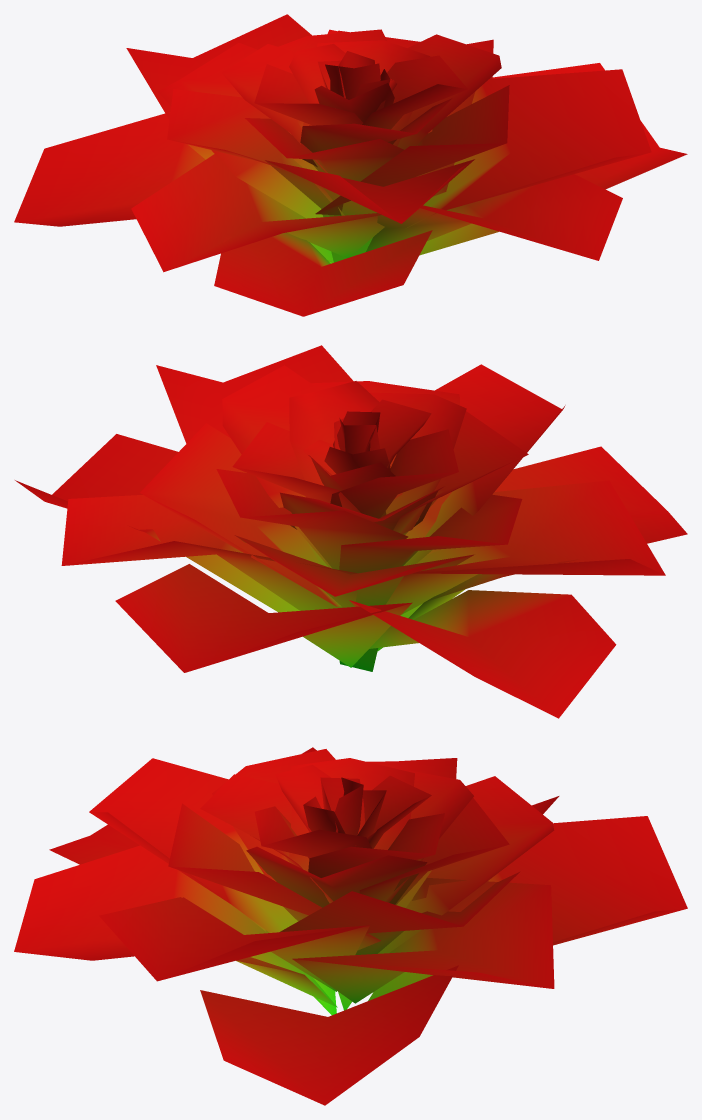
The model's file is Purple Ornamental Kale_LOD5_Var1_ugdieawja.fbx.
The picture shows the model from 3 angles, top to bottom: view 1: azimuth 30°, elevation 25°; view 2: azimuth 150°, elevation 25°; view 3: azimuth 270°, elevation 25°; orthographic projection. The views are drawn at different scales.
Parts seen in each view (by area): view 1: _f6da_Var1_LOD5; view 2: _f6da_Var1_LOD5; view 3: _f6da_Var1_LOD5.
Part boxes in pixels (x1=…): _f6da_Var1_LOD5: x1=14, y1=14, x2=687, y2=316; _f6da_Var1_LOD5: x1=15, y1=345, x2=687, y2=718; _f6da_Var1_LOD5: x1=14, y1=747, x2=687, y2=1105.
Size of the model in its own units: 51.83 by 20.33 by 50.03.
